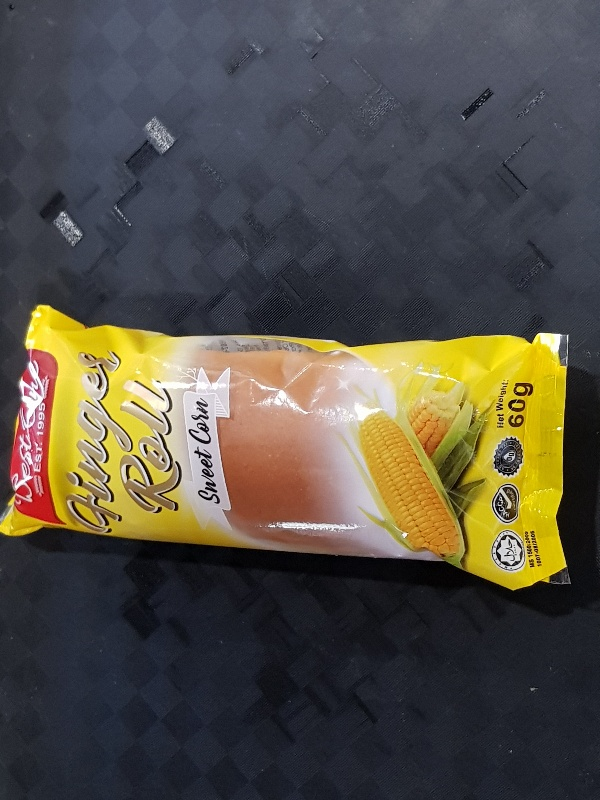Tinges Roll Sweet Corn: (1, 302, 575, 596)
